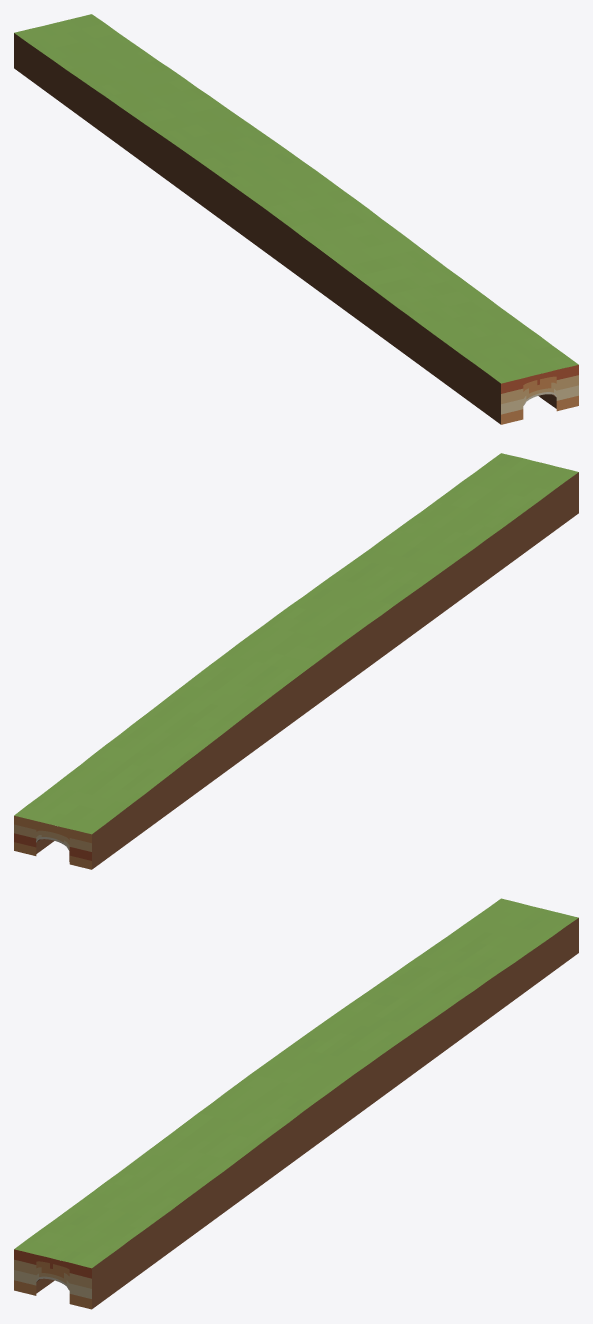
Rendered from tunel_17g1.glb.
3 views of the same model, one above another, from view 1: azimuth 30°, elevation 25°; view 2: azimuth 150°, elevation 25°; view 3: azimuth 330°, elevation 25° (orthographic).
Parts seen in each view (by area): view 1: tunel_17g1; view 2: tunel_17g1; view 3: tunel_17g1.
Part boxes in pixels (left/top/right/bottom): tunel_17g1: left=14, top=14, right=578, bottom=424; tunel_17g1: left=14, top=453, right=578, bottom=869; tunel_17g1: left=14, top=898, right=578, bottom=1309.
Size of the model in its own units: 84 by 44.62 by 912.
